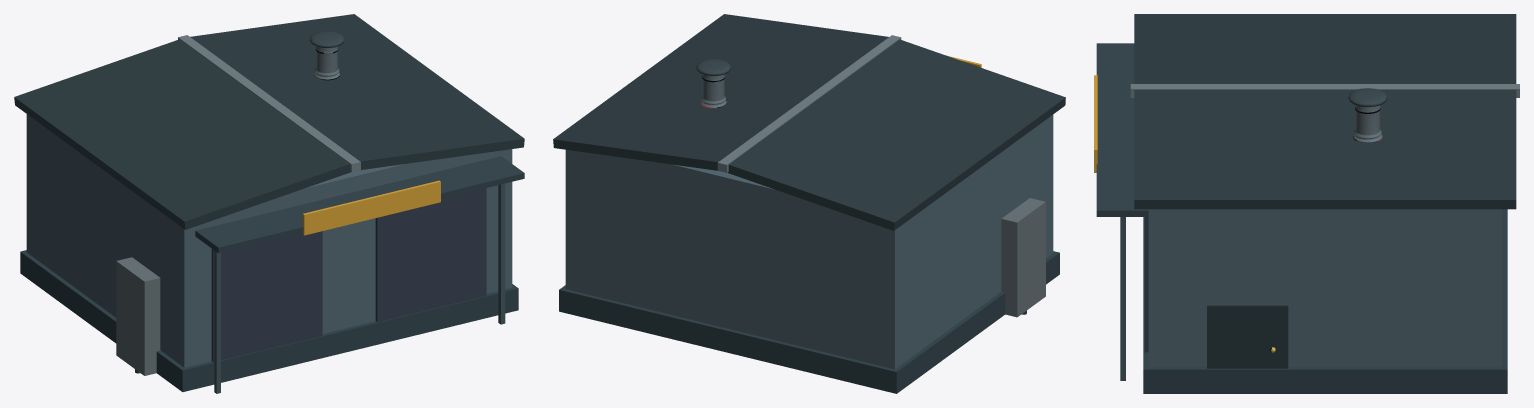
The model's file is yard-maintenance-body-authored-atlas.glb.
3 renders of one model, left to right at view 1: azimuth 30°, elevation 25°; view 2: azimuth 150°, elevation 25°; view 3: azimuth 270°, elevation 25°, orthographic. The views are drawn at different scales.
Parts seen in each view (by area): view 1: Authored surface.107; view 2: Authored surface.107; view 3: Authored surface.107.
Boxes of the visible parts, x1,y1,x2,y2 form: Authored surface.107: [14, 14, 524, 393]; Authored surface.107: [553, 14, 1065, 393]; Authored surface.107: [1094, 14, 1519, 393].
Size of the model in its own units: 12.81 by 8.09 by 12.04.
1 material, 1 textured.
